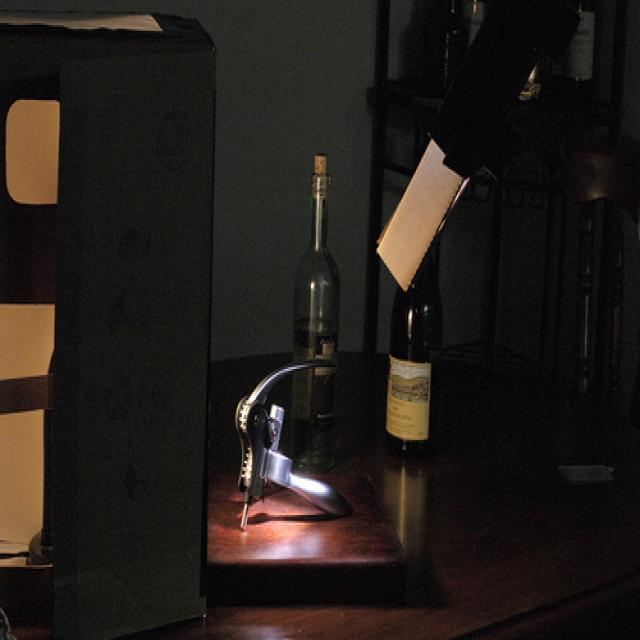Bottle: (373, 155, 441, 460), (300, 124, 356, 415)
